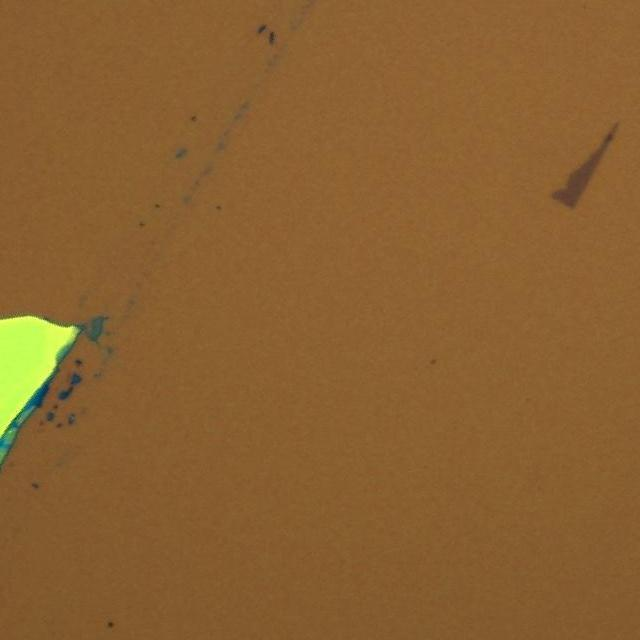monolayer-eWW4: (545, 115, 624, 212)
